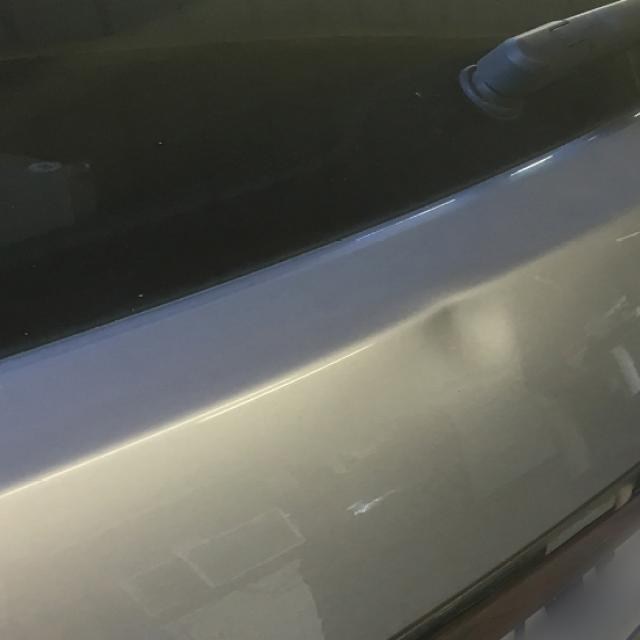dents: (396, 286, 552, 394)
